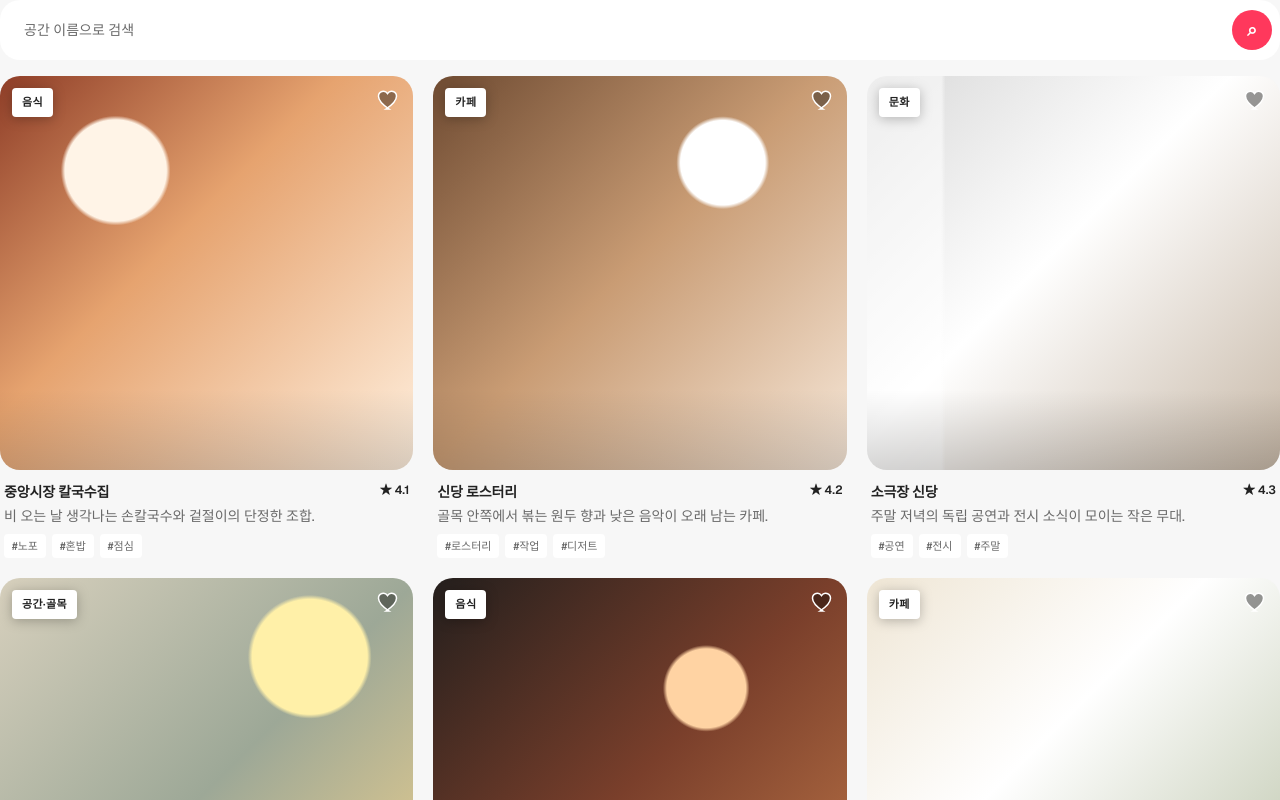
Test: PlaceSearch › 이름을 입력하면 일치하는 공간만 남는다
This screenshot has width=1280, height=800.
Type "로스터리" into the search field labelled "공간 이름으로 검색" at point(618, 30), box [8,8,1228,52]
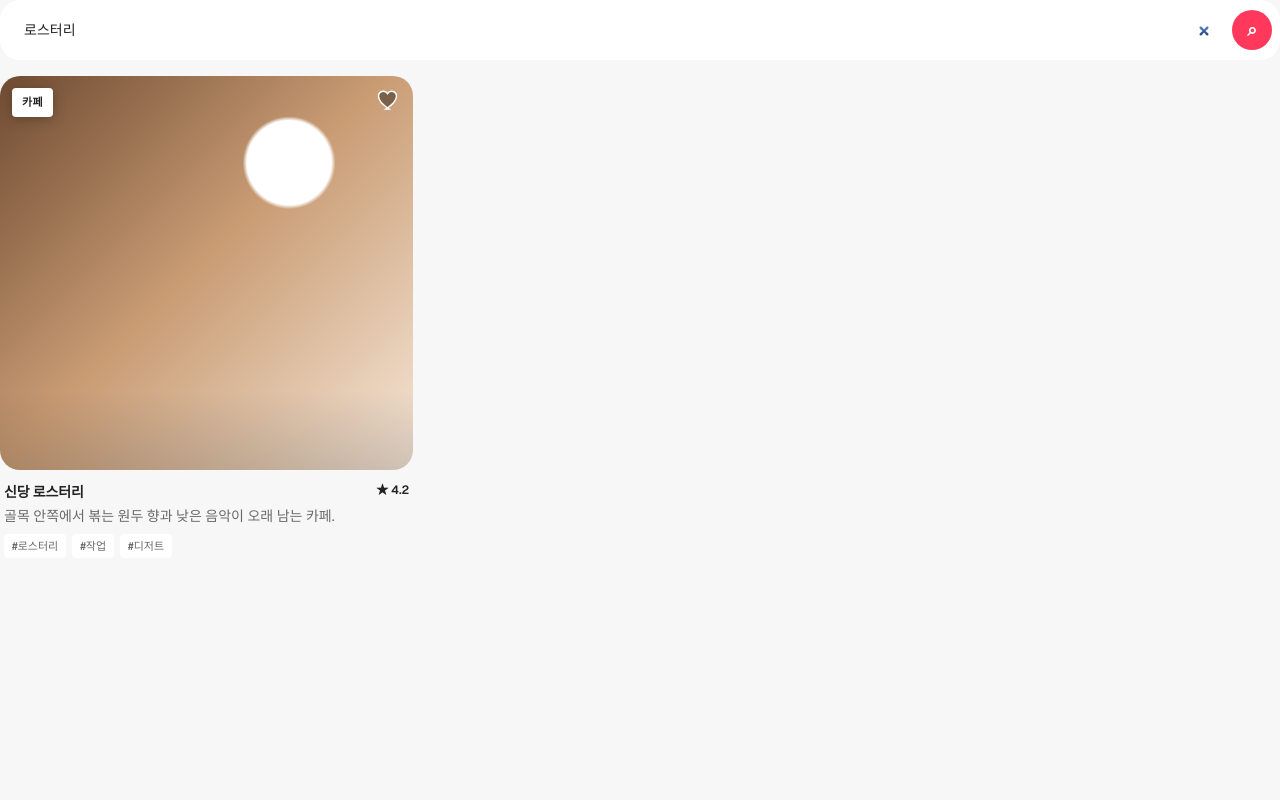
Expected: the heading "신당 로스터리" is shown, [4,482,84,502]
Now the link "중앙시장 칼국수집" is gone
